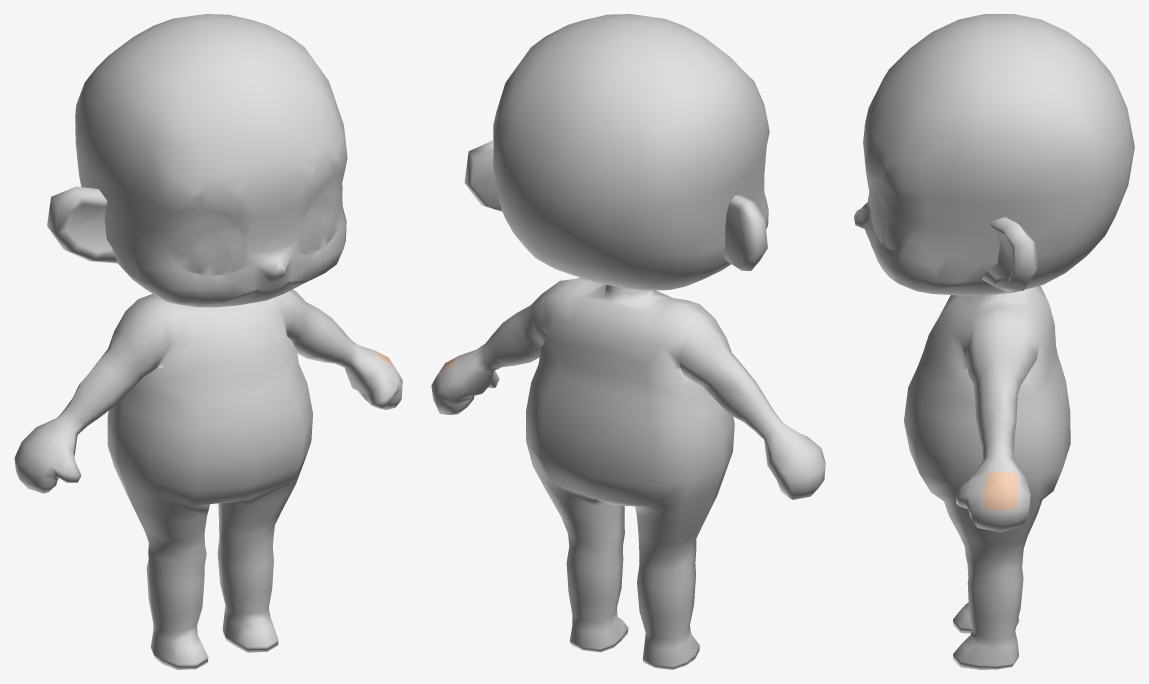
Rendered from default fat naked.fbx.
3 views of the same model, side by side, from view 1: azimuth 30°, elevation 25°; view 2: azimuth 150°, elevation 25°; view 3: azimuth 270°, elevation 25° (orthographic).
Visible parts, largest first — view 1: Body_4.026; view 2: Body_4.026; view 3: Body_4.026.
Boxes of the visible parts, box(x1,y1,x2,y2) form: Body_4.026: box(14, 14, 402, 669); Body_4.026: box(431, 14, 825, 669); Body_4.026: box(854, 14, 1134, 669).
Size of the model in its own units: 107 by 166 by 68.58.
